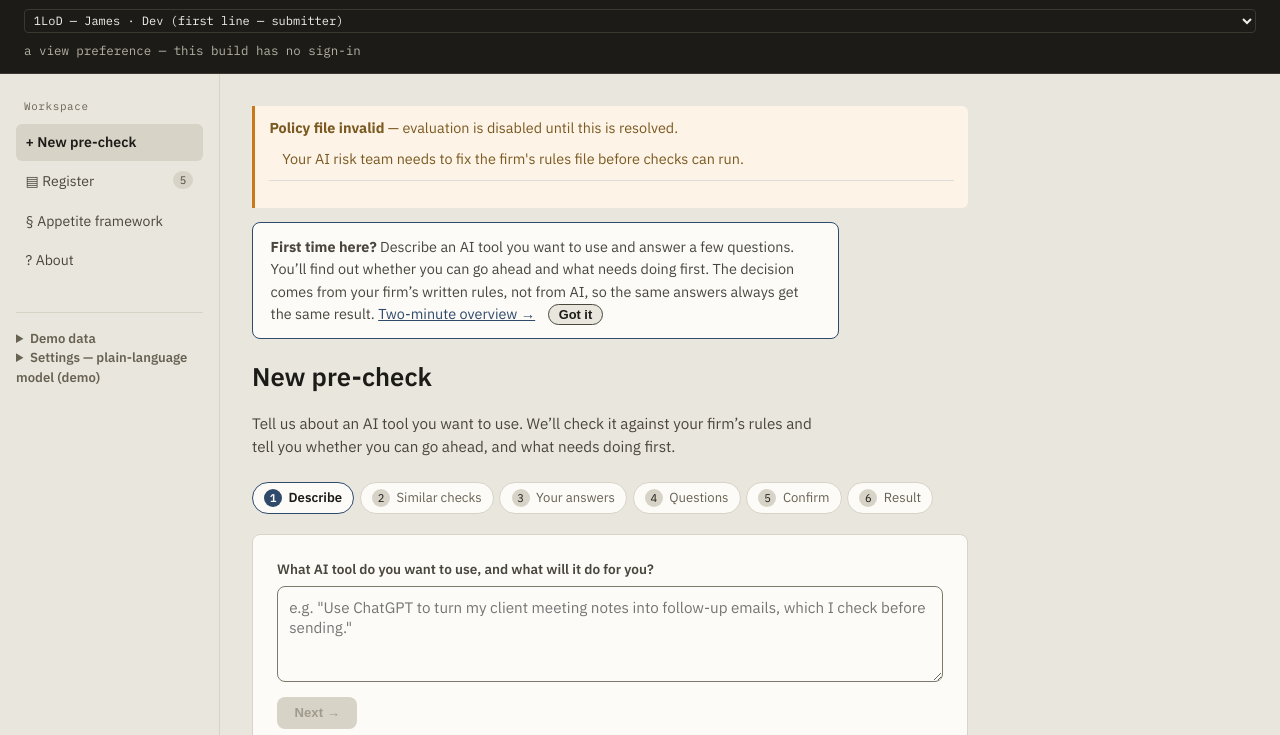
Test case: CR6-02: "Start over" abandons earlier in-flight work instead of leaving it running › TC-CR6-02d: rendered inside StrictMode, the duplicate check still completes and shows its result exactly once
The width and height of the screenshot is (1280, 735).
Click the text box labelled "What AI tool do you want to use" at (610, 634), box [277,586,943,682]
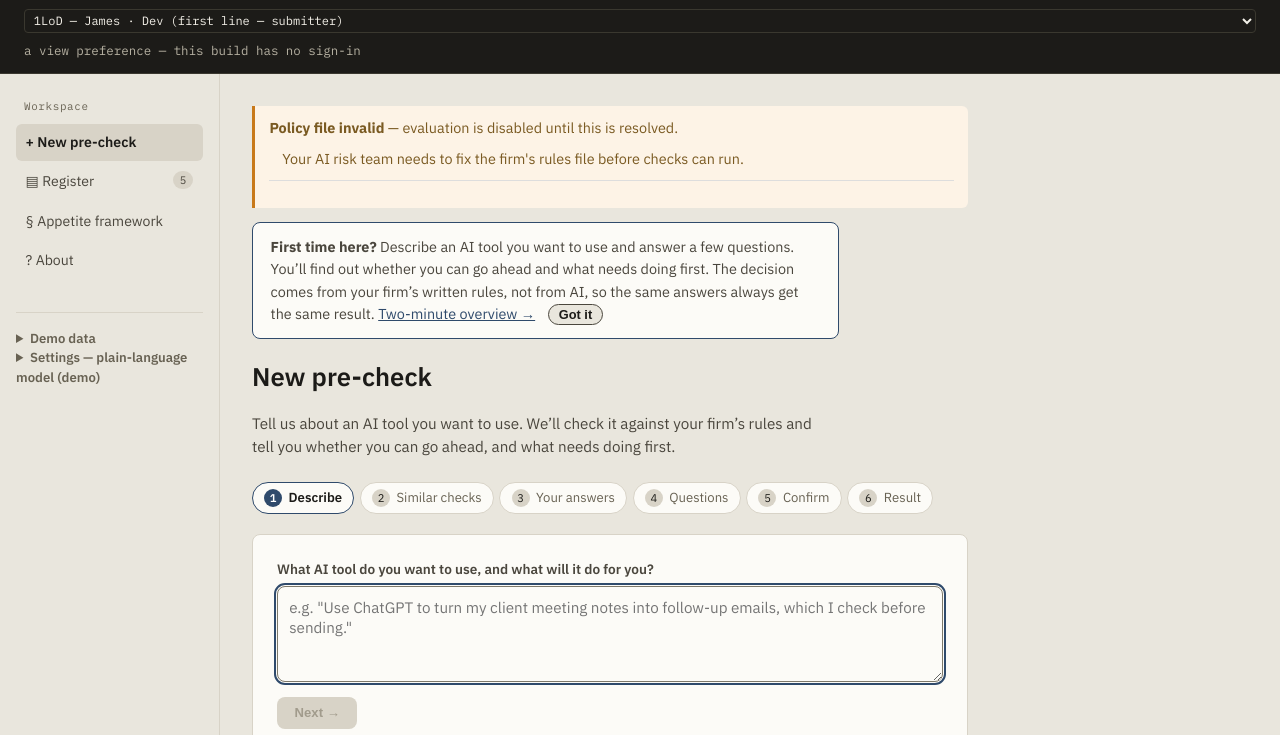
Type keys "StrictMode duplicate probe assistant"
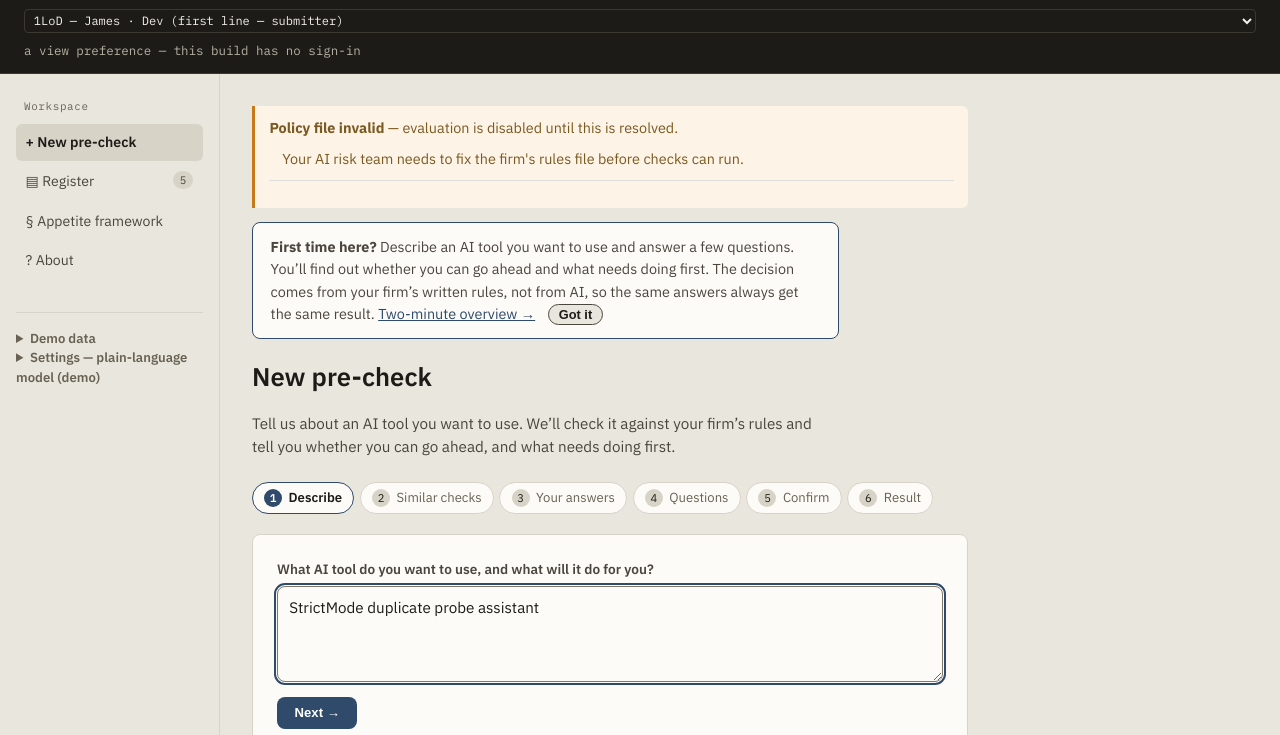
Click the button "Next →" at (317, 713), box [277,697,357,729]
(page scrolled)
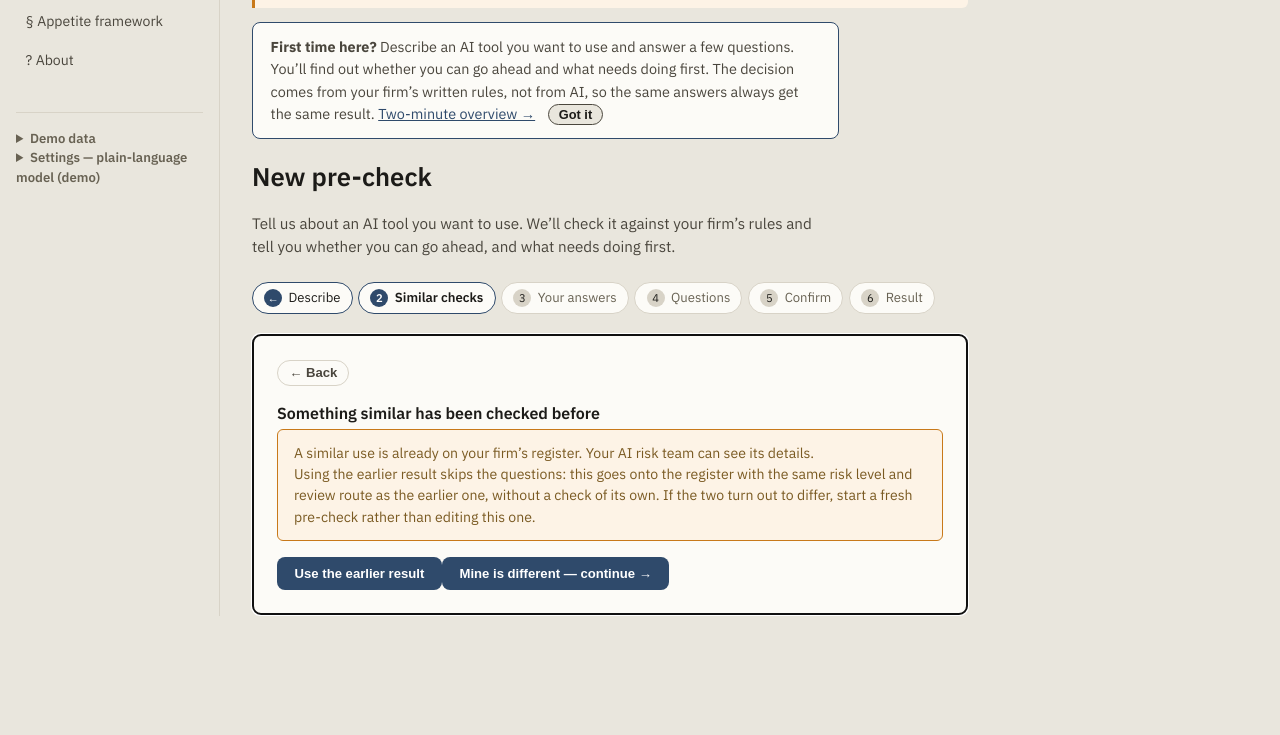
Result: the number of buttons "Mine is different — continue →" is 1 at [442,558,669,590]
Result: the number of messages with class "duplicate-card" is 1 at [277,429,943,541]
